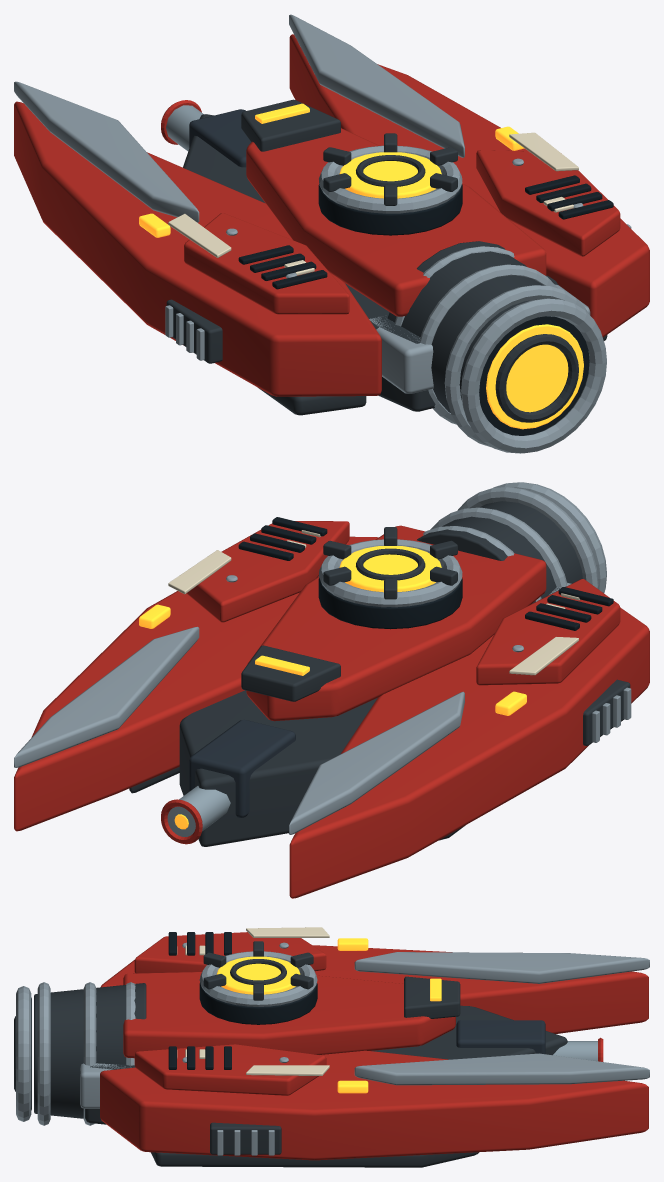
The model's file is ufo_fenda.glb.
3 views of the same model, one above another, from view 1: azimuth 30°, elevation 25°; view 2: azimuth 150°, elevation 25°; view 3: azimuth 270°, elevation 25° (orthographic). The views are drawn at different scales.
Parts seen in each view (by area): view 1: ufo | 01 | Vermilion ceramic armor, ufo | 03 | Brushed titanium, ufo | 02 | Graphite chassis, ufo | 05 | Amber reactor, ufo | 06 | Recesses, ufo | 04 | Identification ivory, ufo | Graphite chassis, ufo | Titanium; view 2: ufo | 01 | Vermilion ceramic armor, ufo | 03 | Brushed titanium, ufo | 02 | Graphite chassis, ufo | 06 | Recesses, ufo | Graphite chassis, ufo | 05 | Amber reactor, ufo | 04 | Identification ivory, ufo | Titanium, ufo | FENDA | armor; view 3: ufo | 01 | Vermilion ceramic armor, ufo | 03 | Brushed titanium, ufo | 02 | Graphite chassis, ufo | 06 | Recesses, ufo | 05 | Amber reactor, ufo | Graphite chassis, ufo | 04 | Identification ivory, ufo | Titanium.
Part boxes in pixels (box(x1,y1,x2,y2)): ufo | 01 | Vermilion ceramic armor: box(14, 34, 649, 396); ufo | 03 | Brushed titanium: box(14, 14, 631, 453); ufo | 02 | Graphite chassis: box(166, 99, 607, 422); ufo | 05 | Amber reactor: box(139, 103, 583, 429); ufo | 06 | Recesses: box(238, 175, 613, 435); ufo | 04 | Identification ivory: box(168, 132, 578, 275); ufo | Graphite chassis: box(189, 109, 251, 167); ufo | Titanium: box(166, 105, 203, 151); ufo | 01 | Vermilion ceramic armor: box(14, 521, 649, 898); ufo | 03 | Brushed titanium: box(14, 482, 631, 834); ufo | 02 | Graphite chassis: box(129, 501, 630, 846); ufo | 06 | Recesses: box(238, 517, 613, 630); ufo | Graphite chassis: box(189, 719, 295, 817); ufo | 05 | Amber reactor: box(139, 546, 526, 715); ufo | 04 | Identification ivory: box(168, 530, 580, 675); ufo | Titanium: box(167, 786, 230, 836); ufo | FENDA | armor: box(161, 799, 202, 844); ufo | 01 | Vermilion ceramic armor: box(100, 932, 648, 1160); ufo | 03 | Brushed titanium: box(16, 942, 649, 1155); ufo | 02 | Graphite chassis: box(14, 941, 567, 1167); ufo | 06 | Recesses: box(31, 932, 317, 1110); ufo | 05 | Amber reactor: box(216, 938, 441, 1093); ufo | Graphite chassis: box(456, 1020, 545, 1054); ufo | 04 | Identification ivory: box(177, 927, 329, 1075); ufo | Titanium: box(553, 1041, 597, 1061).
Bounding box in the file's own units: 1.6 × 0.66 × 2.49.
